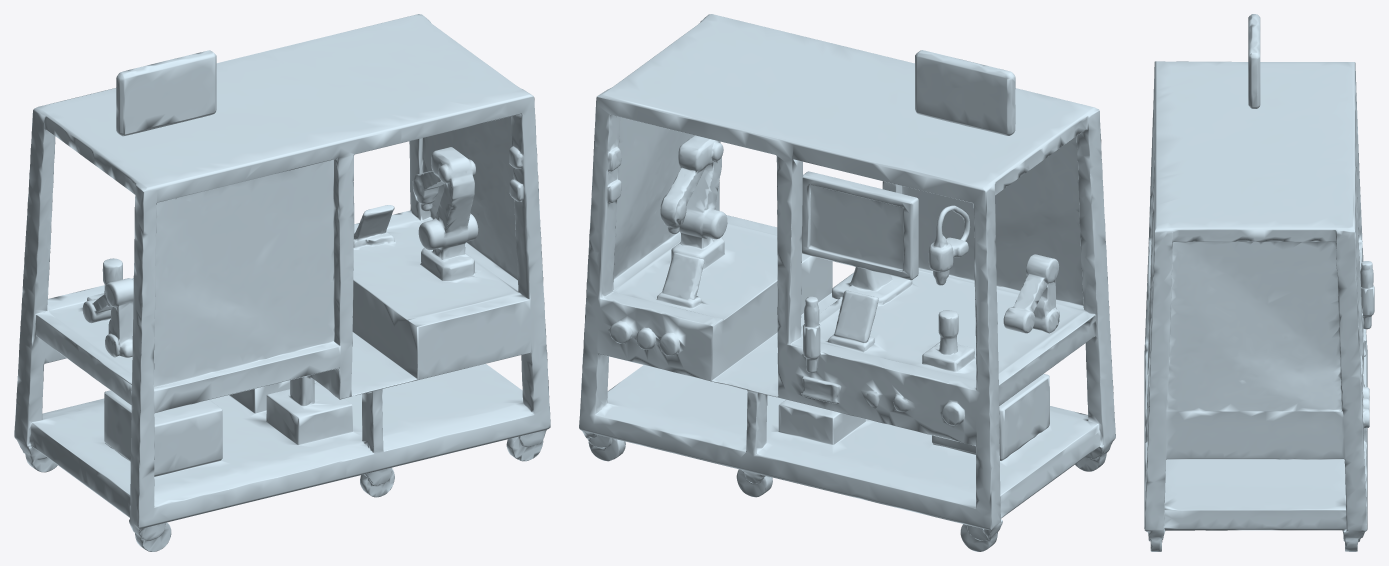
File: 로봇케이지_light.glb
The picture shows the model from 3 angles, left to right: view 1: azimuth 30°, elevation 25°; view 2: azimuth 150°, elevation 25°; view 3: azimuth 270°, elevation 25°; orthographic projection. The views are drawn at different scales.
Visible parts, largest first — view 1: tripo_node_37a1a6fd-cc8f-4330-a363-37e39923c17e; view 2: tripo_node_37a1a6fd-cc8f-4330-a363-37e39923c17e; view 3: tripo_node_37a1a6fd-cc8f-4330-a363-37e39923c17e.
Part boxes in pixels (x1,y1,x2,y2): tripo_node_37a1a6fd-cc8f-4330-a363-37e39923c17e: (14, 14, 550, 551); tripo_node_37a1a6fd-cc8f-4330-a363-37e39923c17e: (579, 14, 1115, 551); tripo_node_37a1a6fd-cc8f-4330-a363-37e39923c17e: (1144, 14, 1374, 551).
Size of the model in its own units: 1 by 0.9978 by 0.5414.
